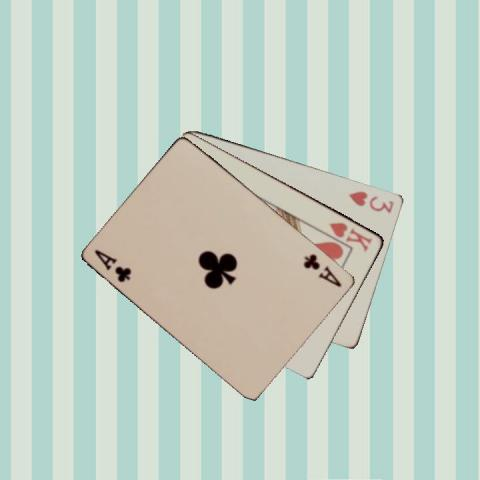3h: (346, 187, 395, 215)
Ac: (301, 250, 343, 288), (92, 246, 134, 284)
Kh: (326, 219, 374, 253)
